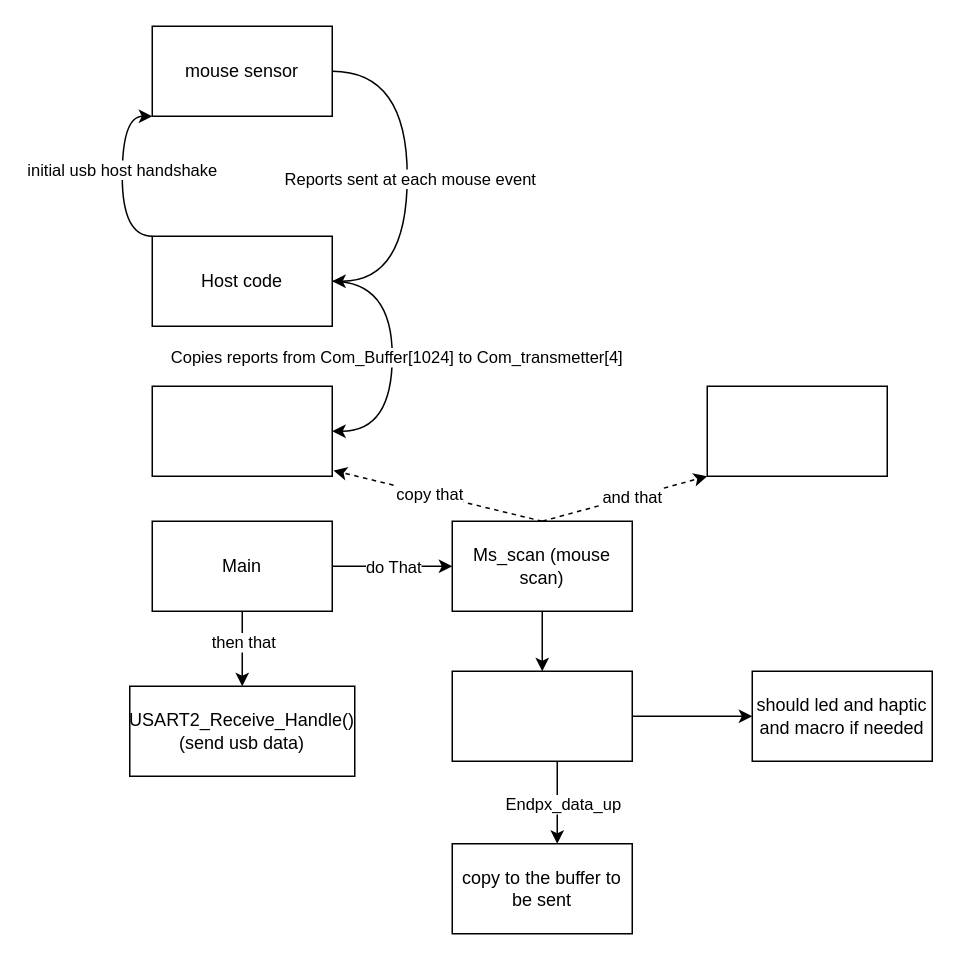
Image size: 959x960. Some labels were removed from this diagram. The shapes that lost their labels are listed below. From the top down, each one's centre as x and y in pixels, then its label:
At (241,430): "Com_transmetter (buffer)".
At (796,430): "Joystick data".
At (541,715): "Combine the data".
